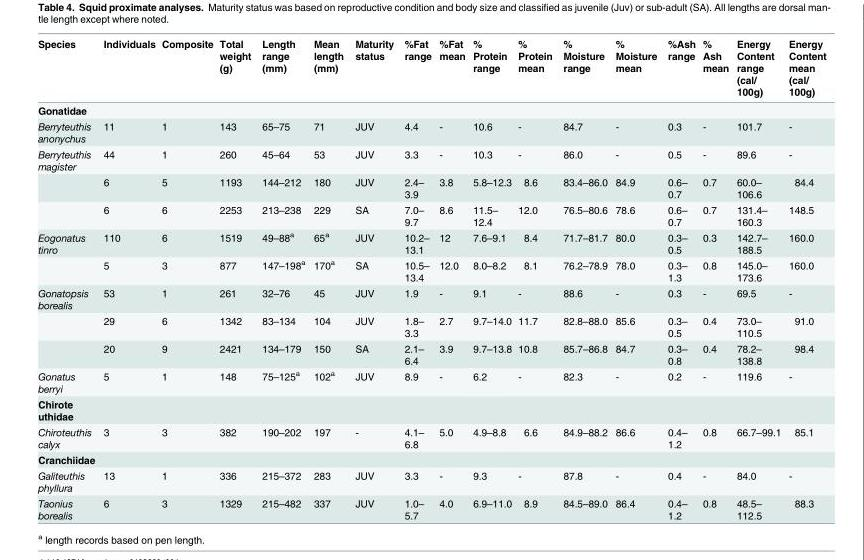table: (38, 37, 826, 521)
table column: (38, 37, 99, 521), (99, 37, 158, 521), (158, 37, 216, 521), (256, 37, 309, 521), (558, 37, 611, 521), (733, 37, 785, 521), (611, 37, 662, 521), (349, 37, 399, 521), (469, 37, 515, 521), (515, 37, 558, 521), (785, 37, 826, 521), (216, 37, 256, 521), (309, 37, 349, 521), (662, 37, 699, 521), (399, 37, 435, 521), (435, 37, 469, 521), (699, 37, 733, 521)
table column header: (38, 37, 826, 100)
table projected row header: (38, 395, 826, 423), (38, 100, 826, 118), (38, 451, 826, 467)
table row: (38, 37, 826, 100), (38, 118, 826, 146), (38, 173, 826, 201), (38, 228, 826, 256), (38, 256, 826, 284), (38, 284, 826, 312), (38, 312, 826, 340), (38, 367, 826, 395), (38, 395, 826, 423), (38, 423, 826, 451), (38, 467, 826, 495), (38, 146, 826, 173), (38, 201, 826, 228), (38, 340, 826, 367), (38, 495, 826, 521), (38, 100, 826, 118), (38, 451, 826, 467)
table spanning cell: (38, 284, 99, 367), (38, 146, 99, 228), (38, 228, 99, 284)
